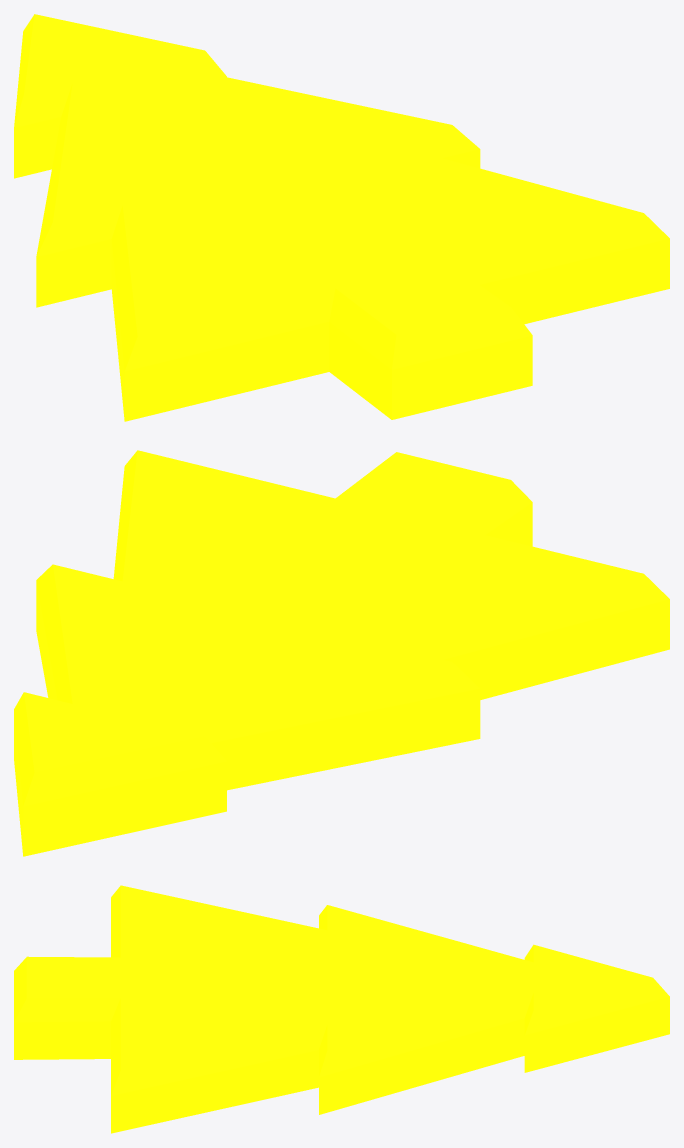
Rendered from gingerbread-tree-b.glb.
The picture shows the model from 3 angles, top to bottom: view 1: azimuth 30°, elevation 25°; view 2: azimuth 150°, elevation 25°; view 3: azimuth 270°, elevation 25°; orthographic projection. The views are drawn at different scales.
Visible parts, largest first — view 1: gingerbread_tree_b; view 2: gingerbread_tree_b; view 3: gingerbread_tree_b.
Part boxes in pixels (left/top/right/bottom): gingerbread_tree_b: left=14, top=14, right=669, bottom=421; gingerbread_tree_b: left=14, top=450, right=669, bottom=856; gingerbread_tree_b: left=14, top=885, right=669, bottom=1133.
Bounding box in the file's own units: 0.0495 × 0.00656 × 0.069.
Materials: 1 (1 with a texture image).
